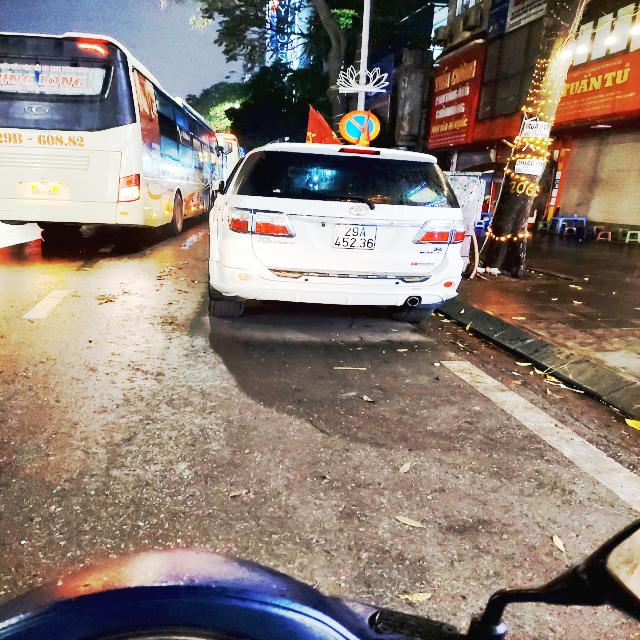license_plate: (328, 222, 381, 253), (31, 183, 61, 197)
